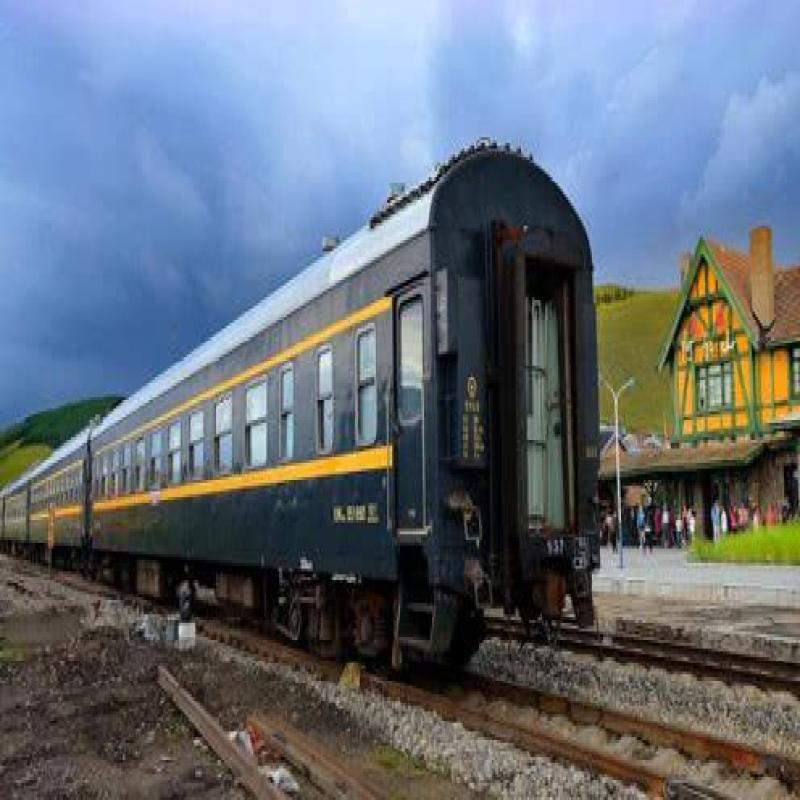train: (78, 124, 564, 652)
